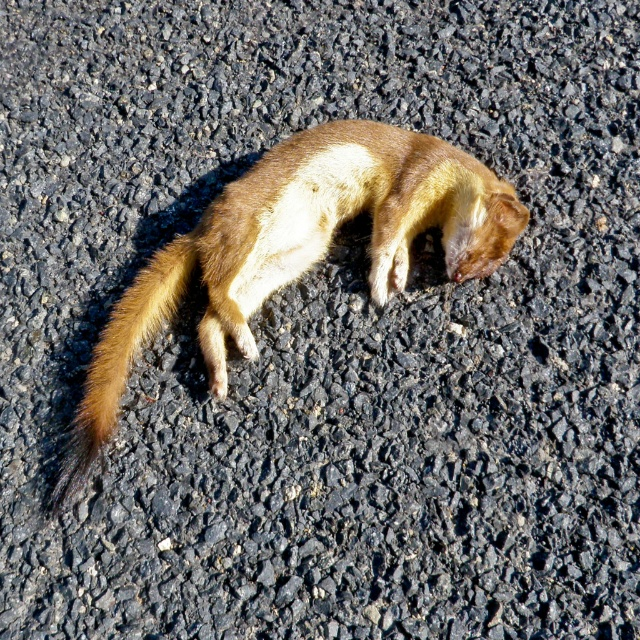Squirrel: (39, 119, 529, 523)
